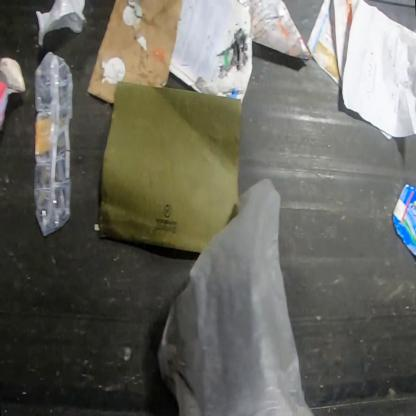cardboard: (98, 82, 241, 256), (87, 1, 183, 105), (392, 183, 415, 259)
rigid_plastic: (35, 51, 74, 237)
soft_plastic: (157, 177, 314, 415)
